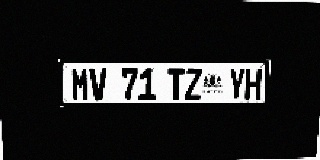1: (139, 68, 156, 100)
7: (121, 68, 138, 100)
H: (245, 68, 262, 100)
M: (71, 68, 89, 101)
T: (168, 68, 185, 100)
V: (89, 68, 107, 101)
Y: (228, 68, 245, 100)
Z: (185, 68, 202, 100)
